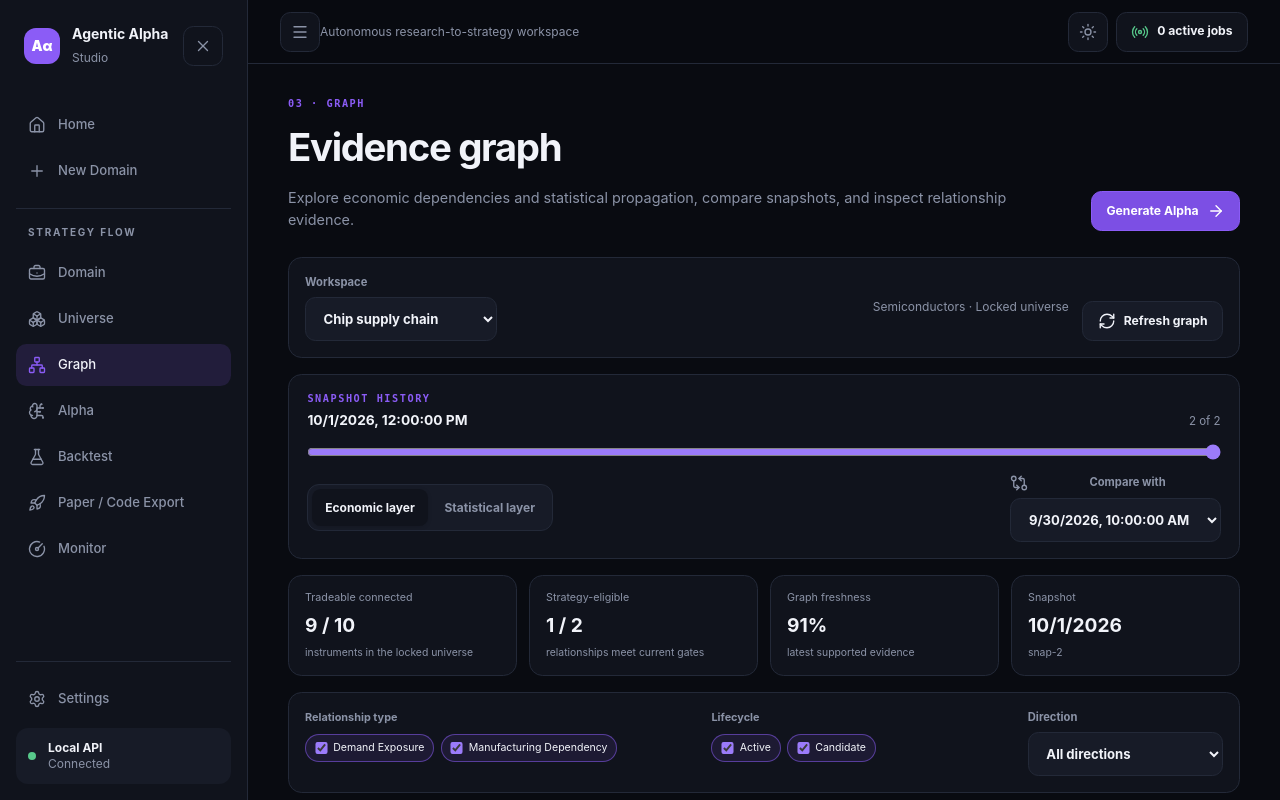
Scenario: switches economic/statistical layers and applies relationship filters
Click the button "Statistical layer" at (490, 508), box [432,490,548,526]
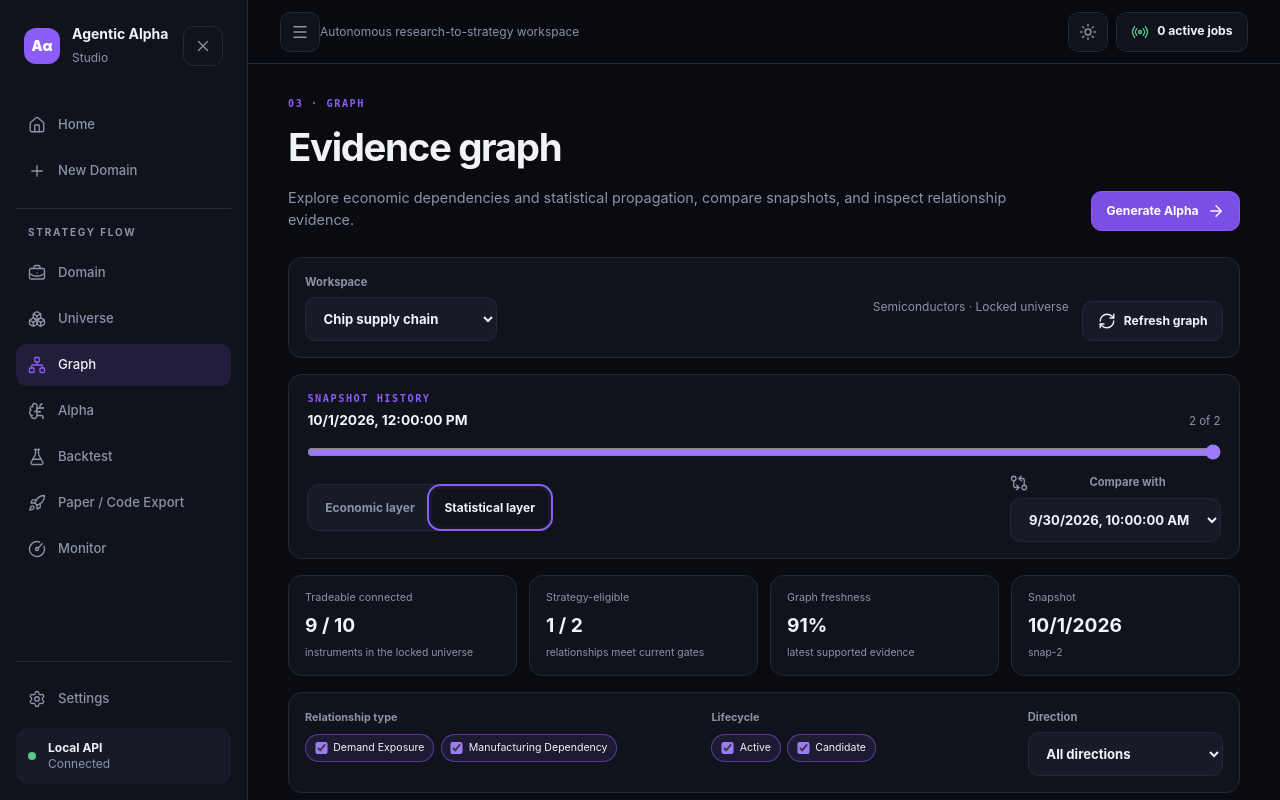
Click the checkbox labelled "Manufacturing Dependency" at (457, 748), box [450,742,463,754]
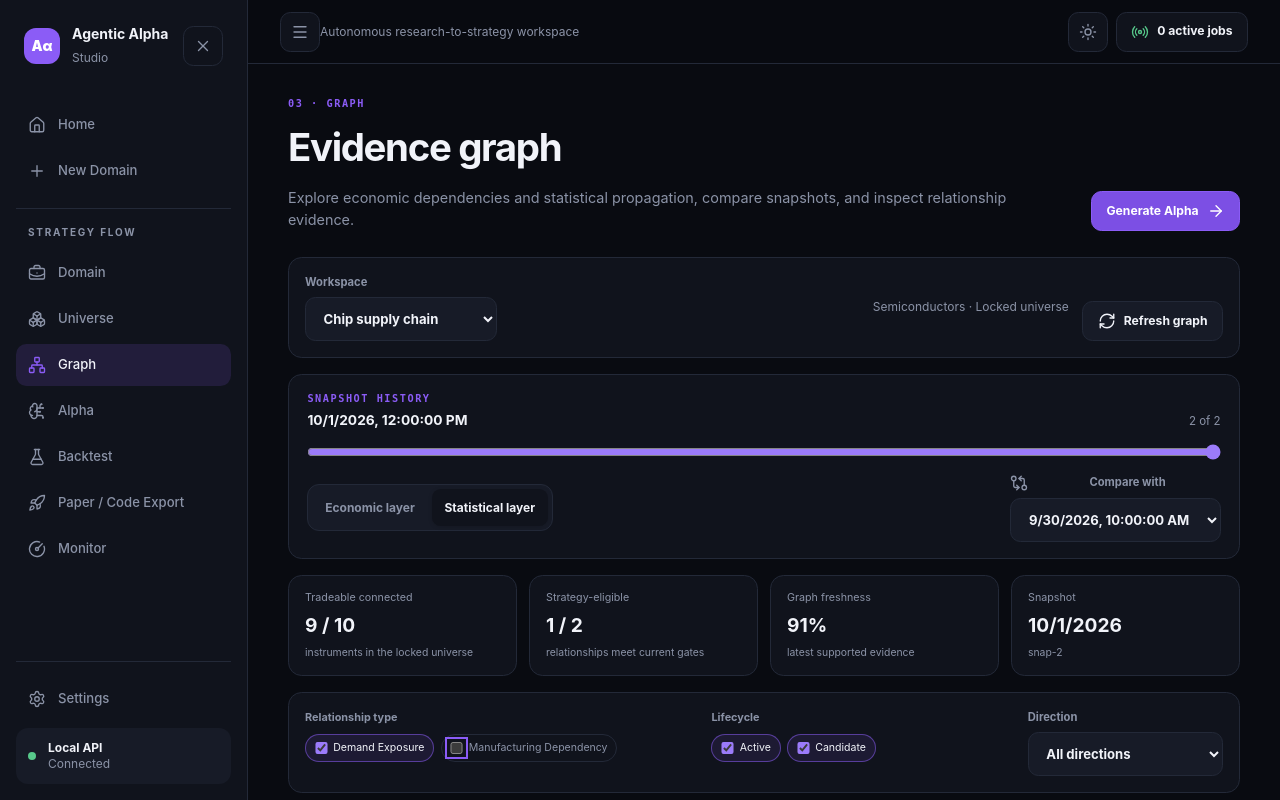
Click the checkbox labelled "Demand Exposure" at (321, 748), box [315,742,328,754]
(page scrolled)
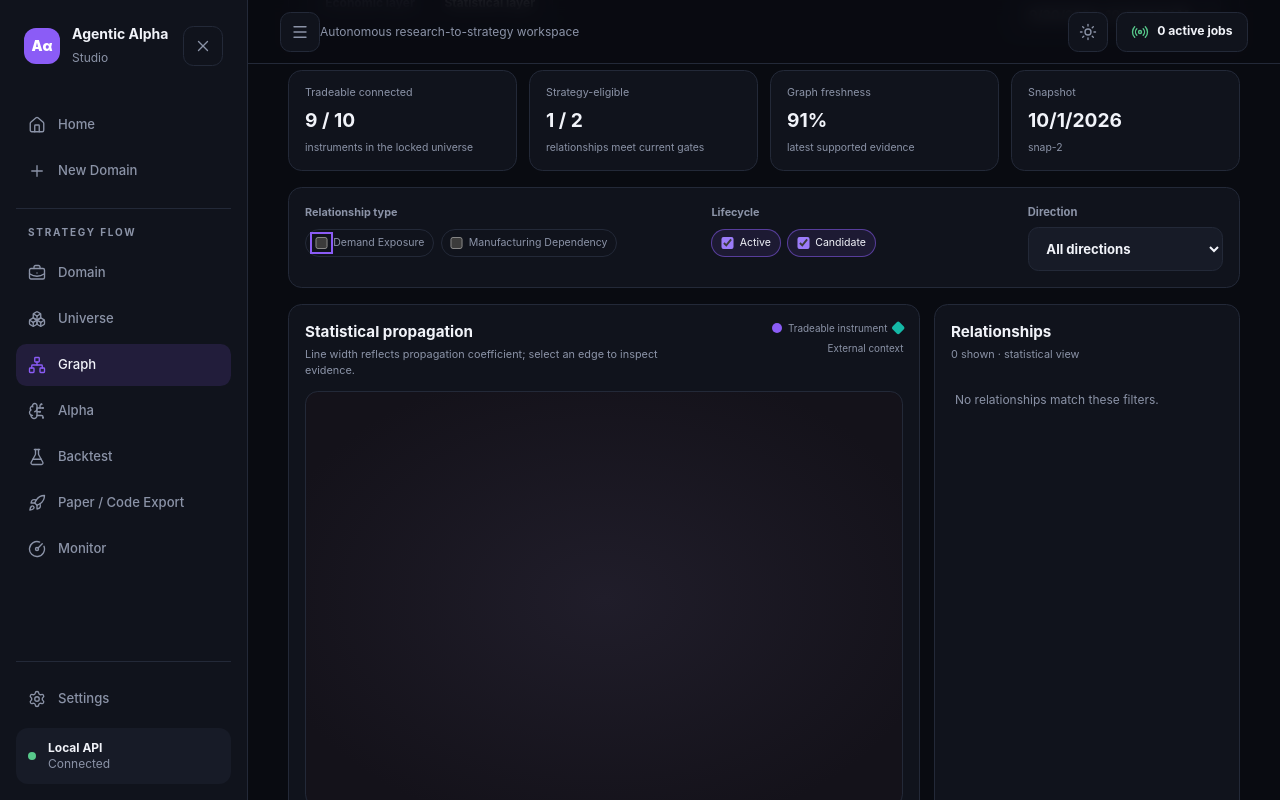
Check: the text "No relationships match these filters." is shown, box [955,392,1159,408]
